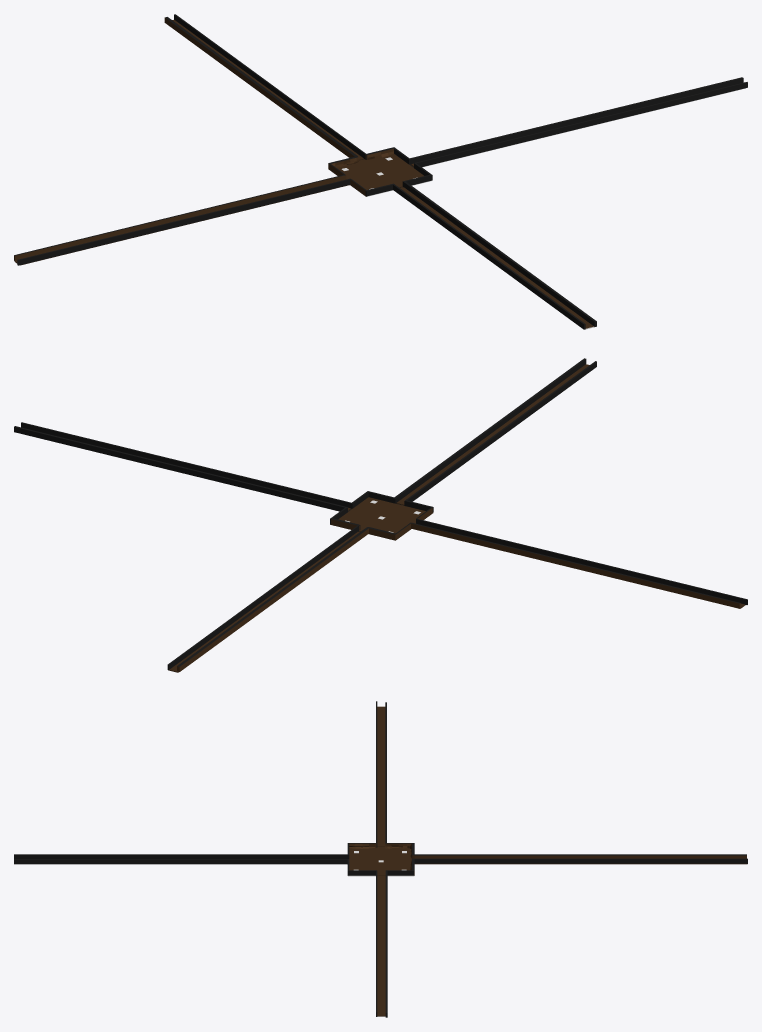
Rendered from salaJEFE1.fbx.
The picture shows the model from 3 angles, top to bottom: view 1: azimuth 30°, elevation 25°; view 2: azimuth 150°, elevation 25°; view 3: azimuth 270°, elevation 25°; orthographic projection. The views are drawn at different scales.
Parts seen in each view (by area): view 1: paredes_der_abajoBOSS1, paredes_izq_arribaBOSS1, sueloBOSS1; view 2: paredes_der_abajoBOSS1, paredes_izq_arribaBOSS1, sueloBOSS1; view 3: paredes_der_abajoBOSS1, sueloBOSS1, paredes_izq_arribaBOSS1.
Part boxes in pixels (x1,y1,x2,y2): paredes_der_abajoBOSS1: [17, 14, 747, 329]; paredes_izq_arribaBOSS1: [14, 17, 393, 260]; sueloBOSS1: [14, 20, 745, 329]; paredes_der_abajoBOSS1: [14, 358, 747, 670]; paredes_izq_arribaBOSS1: [177, 507, 740, 671]; sueloBOSS1: [168, 364, 745, 672]; paredes_der_abajoBOSS1: [14, 701, 747, 1017]; sueloBOSS1: [348, 706, 747, 1016]; paredes_izq_arribaBOSS1: [349, 702, 746, 874].
Bounding box in the file's own units: 87504 × 758 × 87115.
